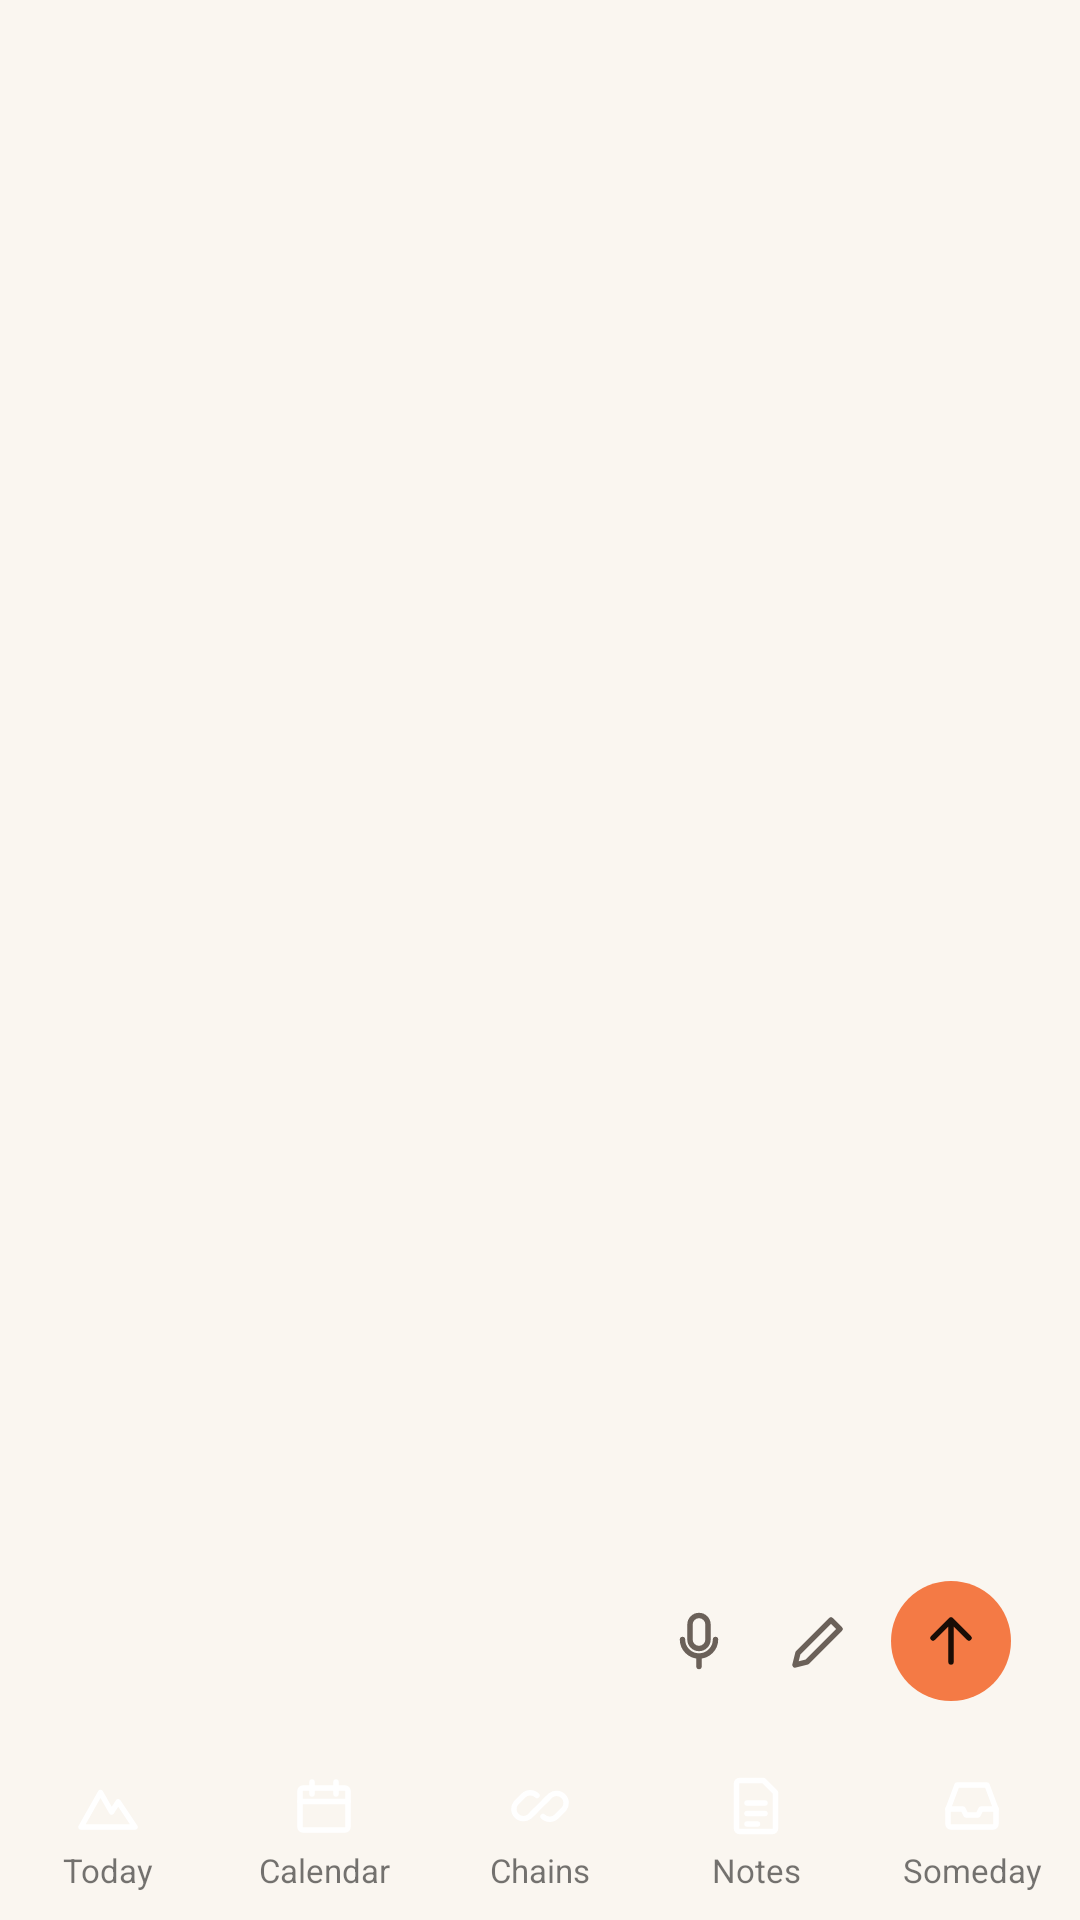

Icons on this 1080 × 1920 Android screen, each with the point to tap as [x,y]:
Add task: [951,1641]
Add with details: [817,1642]
Speak a task: [699,1640]
